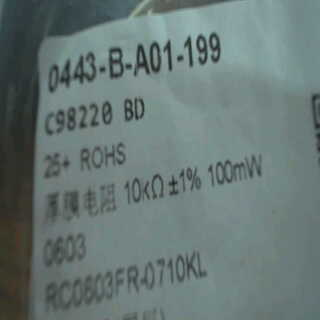10kR: (122, 173, 166, 206)
